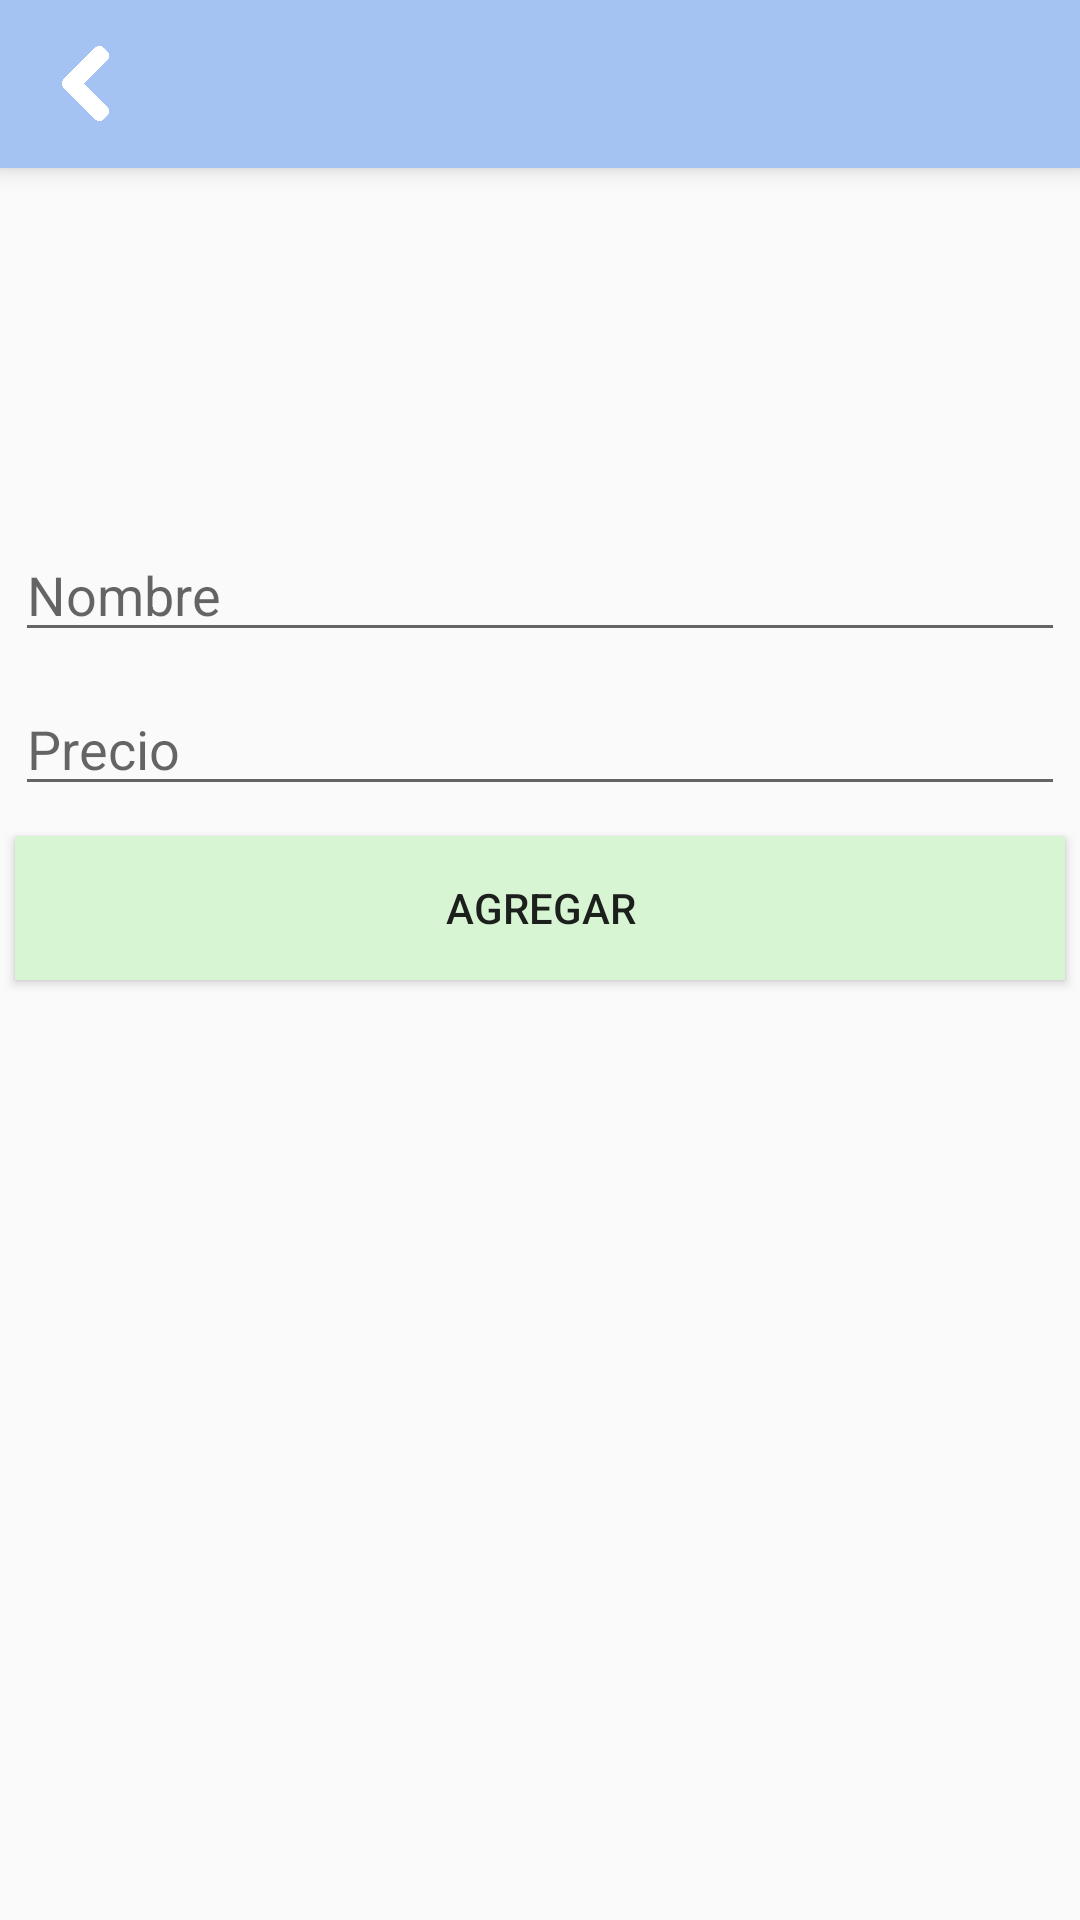

Where to tap for icons on this 1080px x 1920px app screen, as point (x, y):
back: point (85, 83)
